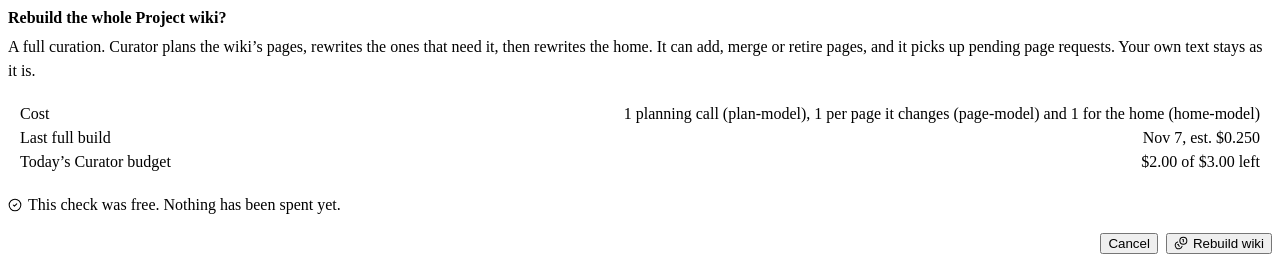
it: never repeats a start with no clear reply, and finds it running from status
Click the button "Rebuild wiki" at (1219, 243), box [1166,233,1272,254]
Wait 3000 ms
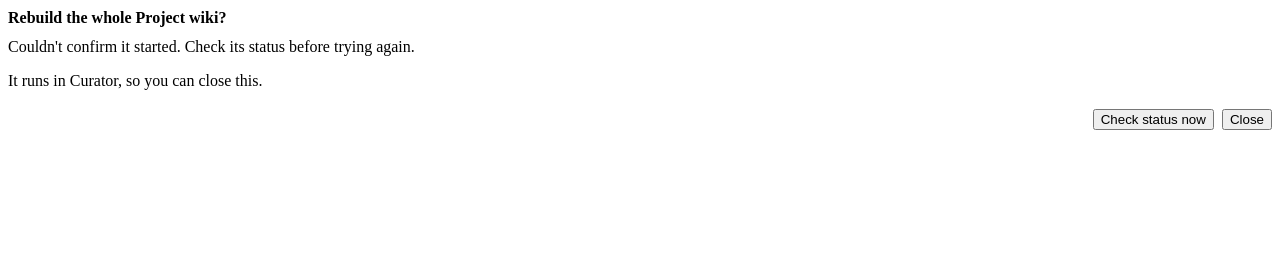
Expected: the message shows "Couldn't confirm it started", [8,38,415,55]
Expected: the button "Rebuild wiki" is gone
Click the button "Check status now" at (1153, 119), box [1093,109,1214,130]
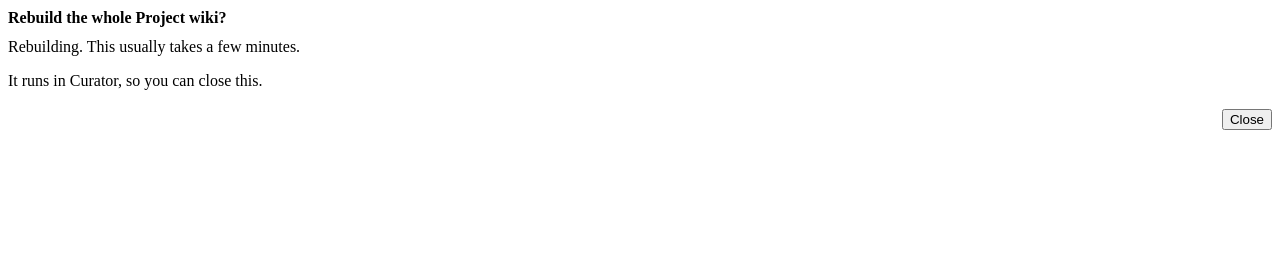
Expected: the text "Rebuilding. This usually takes a few minutes." is shown, [8,38,300,55]
